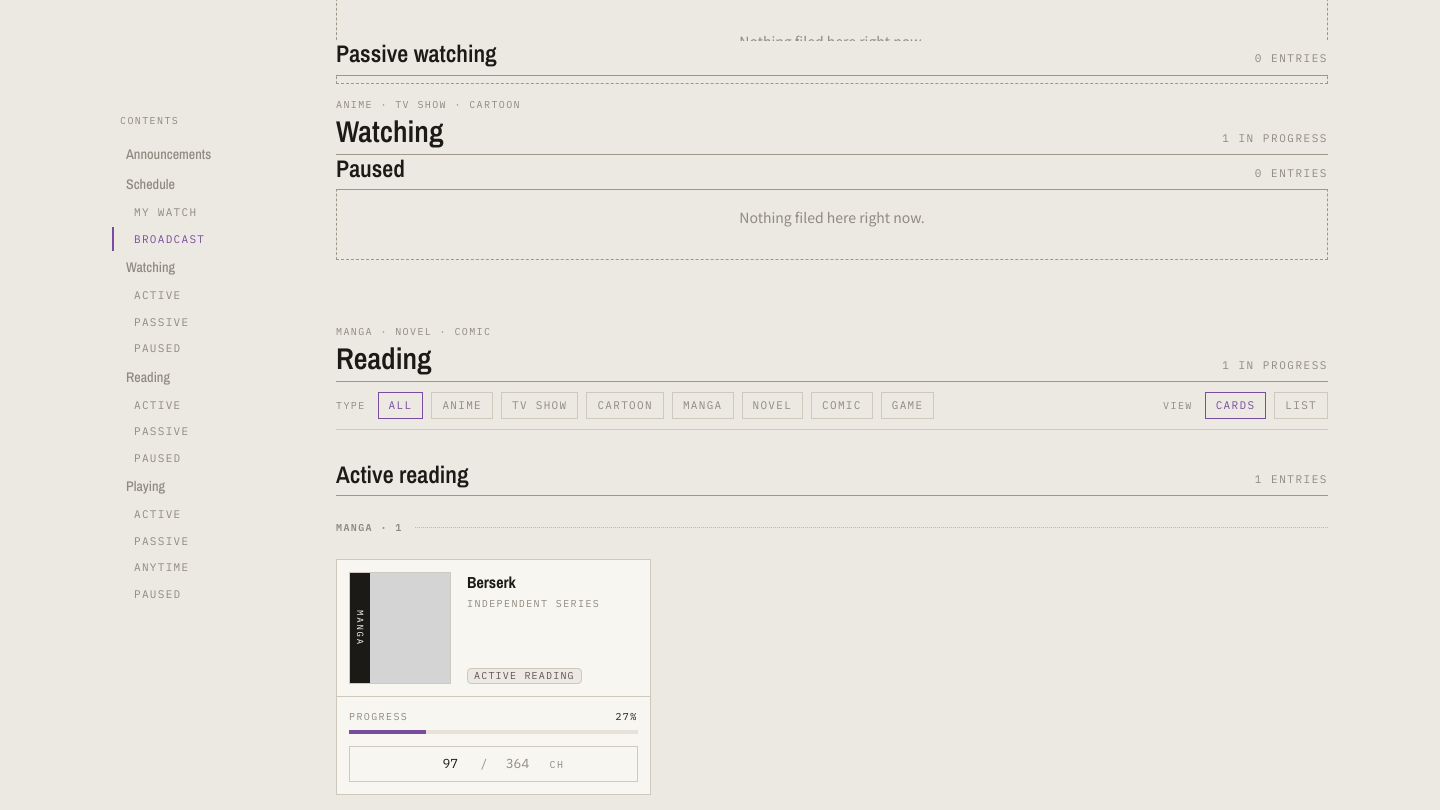
Test: the mode is one setting: flipping it in one division changes the others
(page scrolled)
Click the button "List". click: (1301, 405)
box: [1274, 392, 1328, 418]
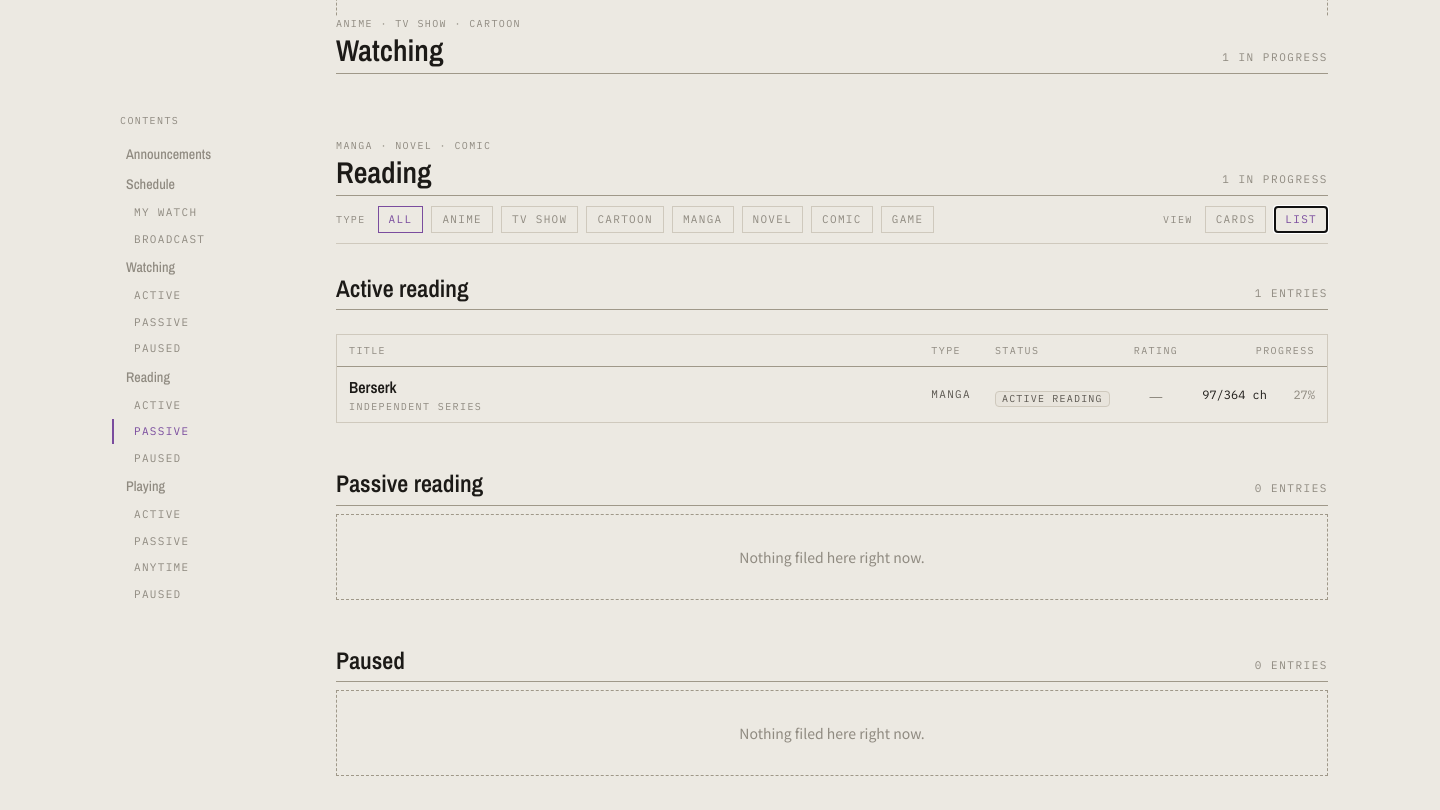
Expected: the text "Berserk" is shown, [349, 376, 397, 398]
